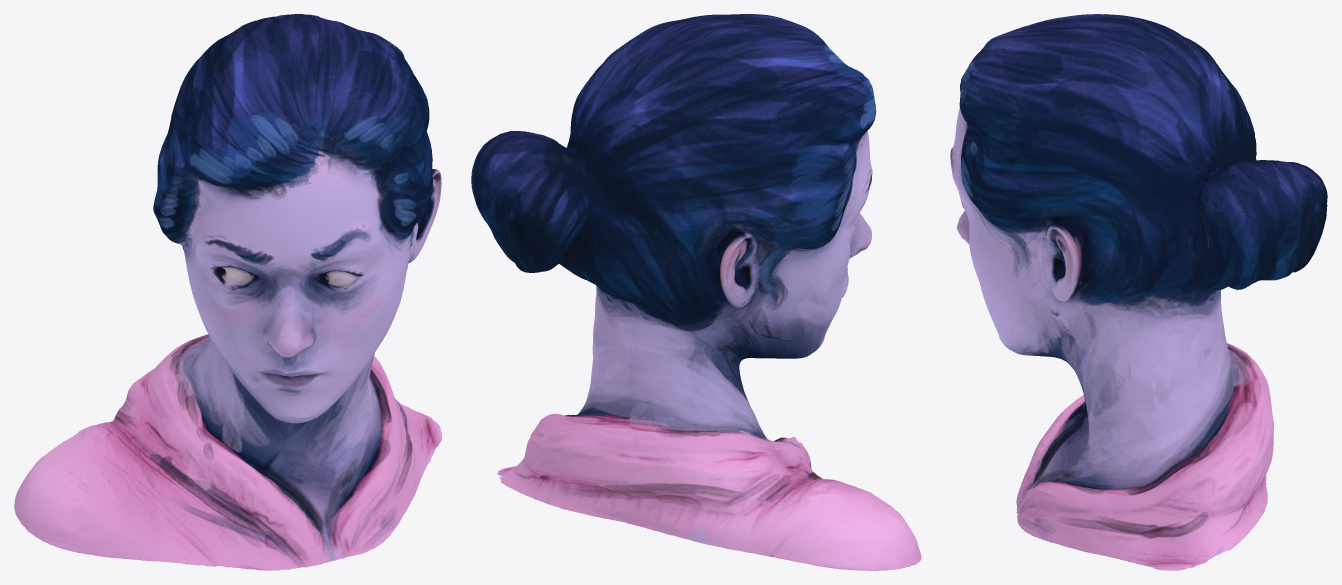
Rendered from painterly_bust.glb.
3 renders of one model, left to right at view 1: azimuth 30°, elevation 25°; view 2: azimuth 150°, elevation 25°; view 3: azimuth 270°, elevation 25°, orthographic. The views are drawn at different scales.
Parts seen in each view (by area): view 1: Object_2; view 2: Object_2; view 3: Object_2.
Part boxes in pixels (<box>): Object_2: <box>14,14,442,570</box>; Object_2: <box>471,14,921,570</box>; Object_2: <box>950,14,1327,570</box>.
Bounding box in the file's own units: 4.38 × 4.96 × 3.48.
1 material, 1 textured.
